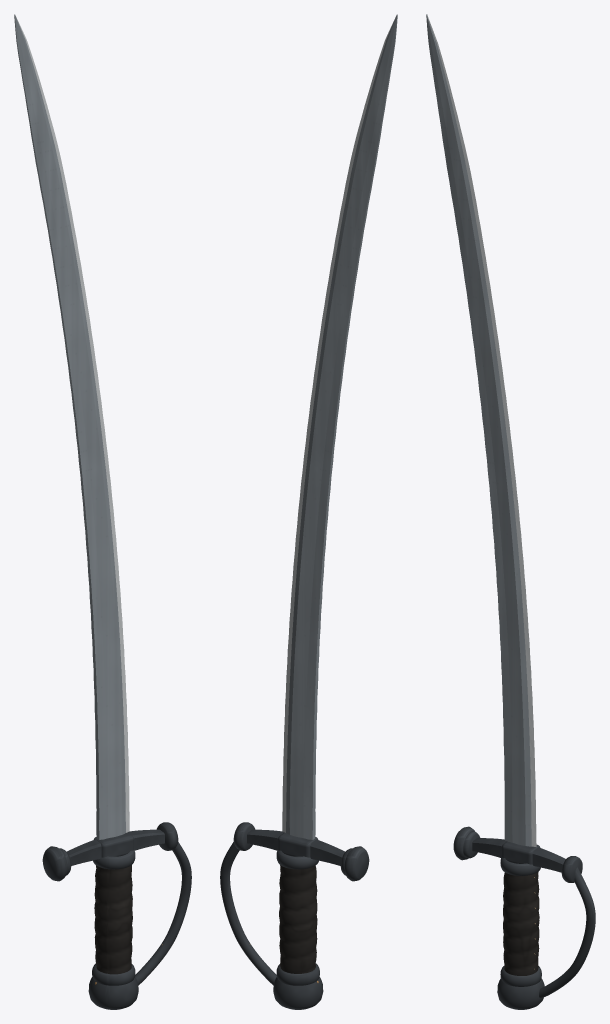
Rendered from saber.glb.
3 views of the same model, side by side, from view 1: azimuth 30°, elevation 25°; view 2: azimuth 150°, elevation 25°; view 3: azimuth 330°, elevation 25° (orthographic). The views are drawn at different scales.
Visible parts, largest first — view 1: steel / forged blade steel, darksteel / oil-blackened fittings, leather / oiled leather wrap, edge / honed bright bevel; view 2: steel / forged blade steel, darksteel / oil-blackened fittings, leather / oiled leather wrap, edge / honed bright bevel; view 3: steel / forged blade steel, darksteel / oil-blackened fittings, edge / honed bright bevel, leather / oiled leather wrap.
Boxes of the visible parts, x1,y1,x2,y2 form: steel / forged blade steel: (14, 14, 125, 839); darksteel / oil-blackened fittings: (42, 822, 191, 1009); leather / oiled leather wrap: (94, 865, 132, 974); edge / honed bright bevel: (16, 17, 129, 832); steel / forged blade steel: (286, 14, 397, 839); darksteel / oil-blackened fittings: (220, 822, 369, 1009); leather / oiled leather wrap: (279, 865, 317, 973); edge / honed bright bevel: (282, 19, 394, 832); steel / forged blade steel: (426, 14, 531, 846); darksteel / oil-blackened fittings: (453, 826, 595, 1009); edge / honed bright bevel: (427, 15, 536, 846); leather / oiled leather wrap: (503, 872, 539, 975).
Size of the model in its own units: 0.1818 by 0.9955 by 0.0444.
Materials: 6 (4 with a texture image).
